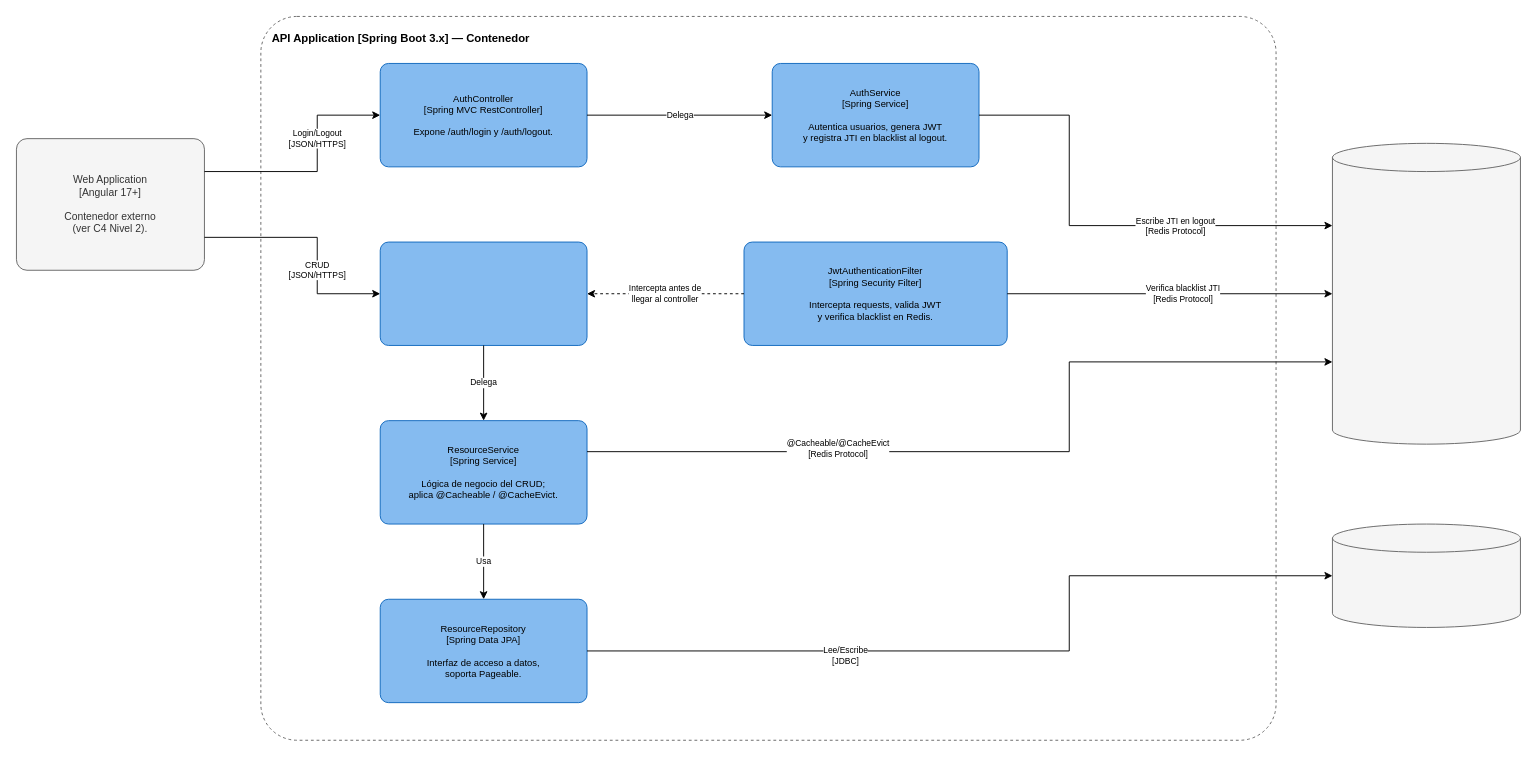
Some shapes in this 1537 by 757 pixel diagram are drawn without their labels. Here are the shapes that lost their labels. From the top down, the box of each, then its label:
(379, 241, 587, 345): ResourceController [Spring MVC RestController] Expone endpoints CRUD paginados.
(1332, 142, 1520, 444): Cache [Redis 7.x] Contenedor externo (ver C4 Nivel 2).
(1332, 523, 1520, 627): Database [PostgreSQL 16] Contenedor externo (ver C4 Nivel 2).
